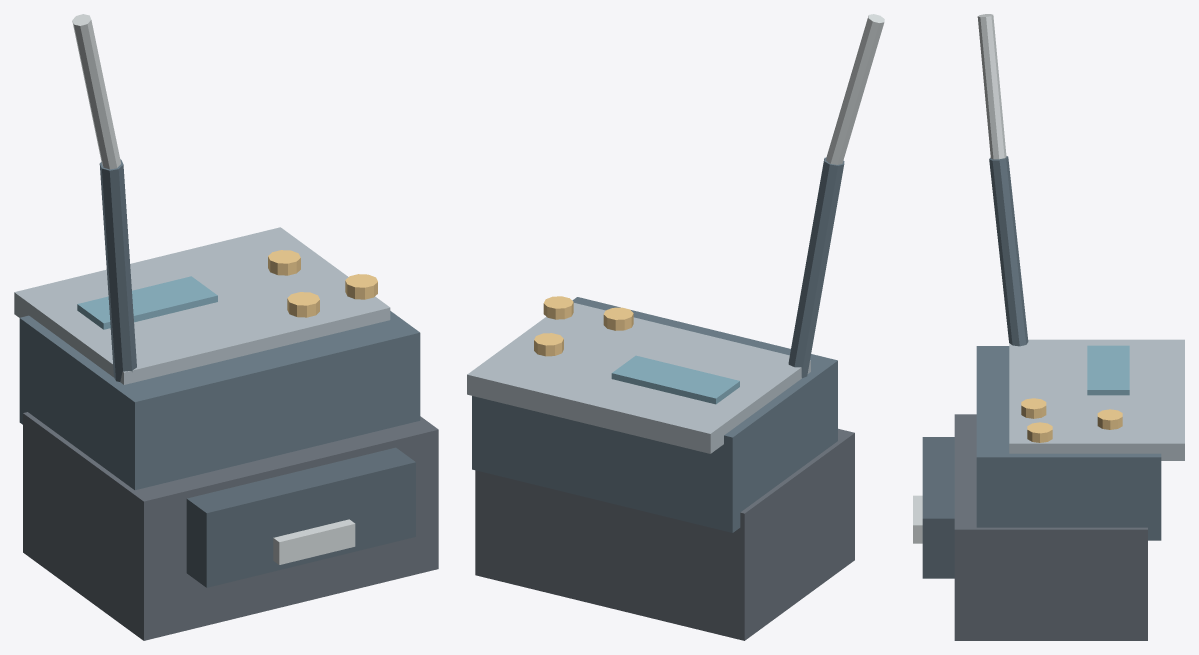
The model's file is guard_desk_radio.glb.
3 renders of one model, left to right at view 1: azimuth 30°, elevation 25°; view 2: azimuth 150°, elevation 25°; view 3: azimuth 270°, elevation 25°, orthographic. The views are drawn at different scales.
Visible parts, largest first — view 1: guard_desk_radio:steel_dark, guard_desk_radio:rubber, guard_desk_radio:steel, guard_desk_radio:matte_black, guard_desk_radio:steel_light, guard_desk_radio:glass_blue, guard_desk_radio:warning; view 2: guard_desk_radio:rubber, guard_desk_radio:steel_dark, guard_desk_radio:steel, guard_desk_radio:glass_blue, guard_desk_radio:steel_light, guard_desk_radio:warning; view 3: guard_desk_radio:rubber, guard_desk_radio:steel_dark, guard_desk_radio:steel, guard_desk_radio:matte_black, guard_desk_radio:steel_light, guard_desk_radio:glass_blue, guard_desk_radio:warning.
Boxes of the visible parts, left/top/right/bottom form: guard_desk_radio:steel_dark: left=19, top=159, right=420, bottom=490; guard_desk_radio:rubber: left=23, top=412, right=438, bottom=640; guard_desk_radio:steel: left=14, top=227, right=390, bottom=384; guard_desk_radio:matte_black: left=186, top=447, right=415, bottom=587; guard_desk_radio:steel_light: left=72, top=14, right=355, bottom=564; guard_desk_radio:glass_blue: left=77, top=276, right=217, bottom=329; guard_desk_radio:warning: left=268, top=250, right=377, bottom=317; guard_desk_radio:rubber: left=475, top=428, right=854, bottom=640; guard_desk_radio:steel_dark: left=472, top=157, right=844, bottom=532; guard_desk_radio:steel: left=467, top=303, right=810, bottom=453; guard_desk_radio:glass_blue: left=611, top=355, right=739, bottom=404; guard_desk_radio:steel_light: left=826, top=14, right=884, bottom=164; guard_desk_radio:warning: left=534, top=296, right=633, bottom=356; guard_desk_radio:rubber: left=954, top=414, right=1147, bottom=640; guard_desk_radio:steel_dark: left=976, top=156, right=1161, bottom=540; guard_desk_radio:steel: left=1009, top=339, right=1184, bottom=460; guard_desk_radio:matte_black: left=922, top=437, right=954, bottom=578; guard_desk_radio:steel_light: left=913, top=14, right=1006, bottom=543; guard_desk_radio:glass_blue: left=1087, top=345, right=1129, bottom=395; guard_desk_radio:warning: left=1021, top=398, right=1122, bottom=442.
Size of the model in its own units: 0.3637 by 0.6222 by 0.3095.
